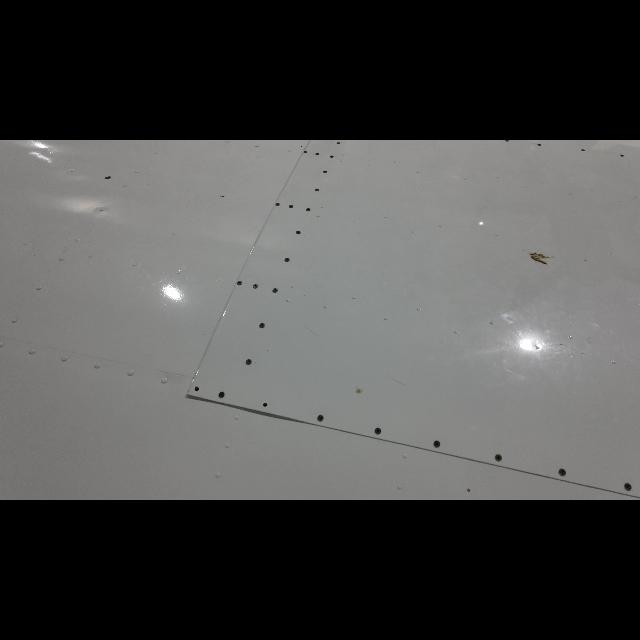Missing Fastener: (260, 397, 272, 413)
dent: (222, 396, 292, 426)
